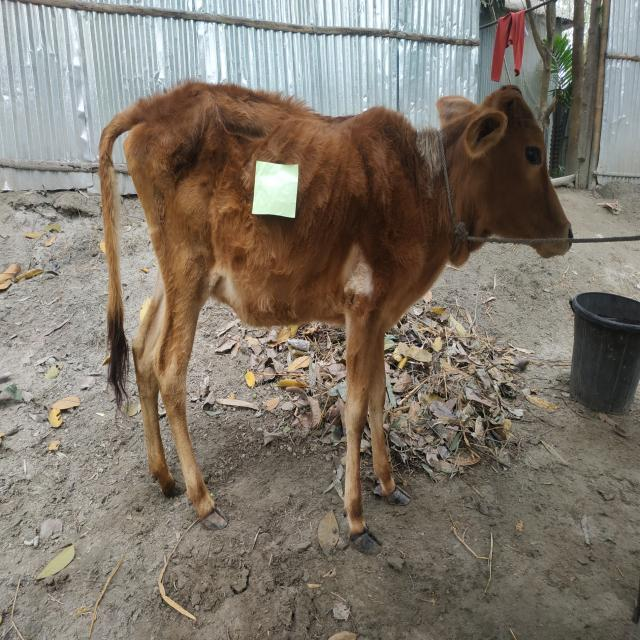badan_sapi: (163, 97, 390, 327)
sapi: (93, 78, 580, 558)
